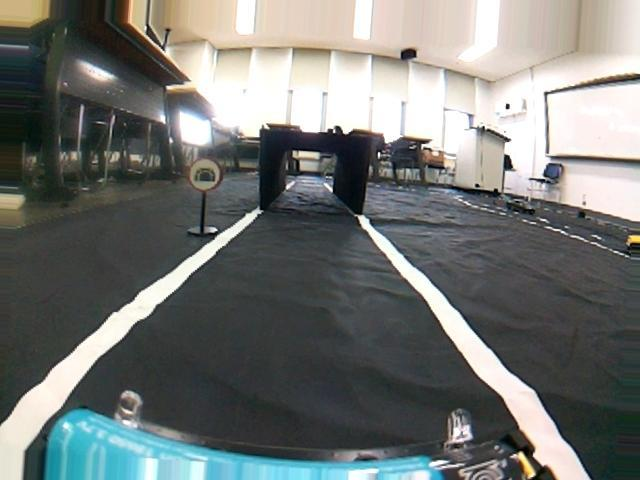sign_tunnel: (186, 154, 223, 193)
straight: (6, 210, 623, 476)
